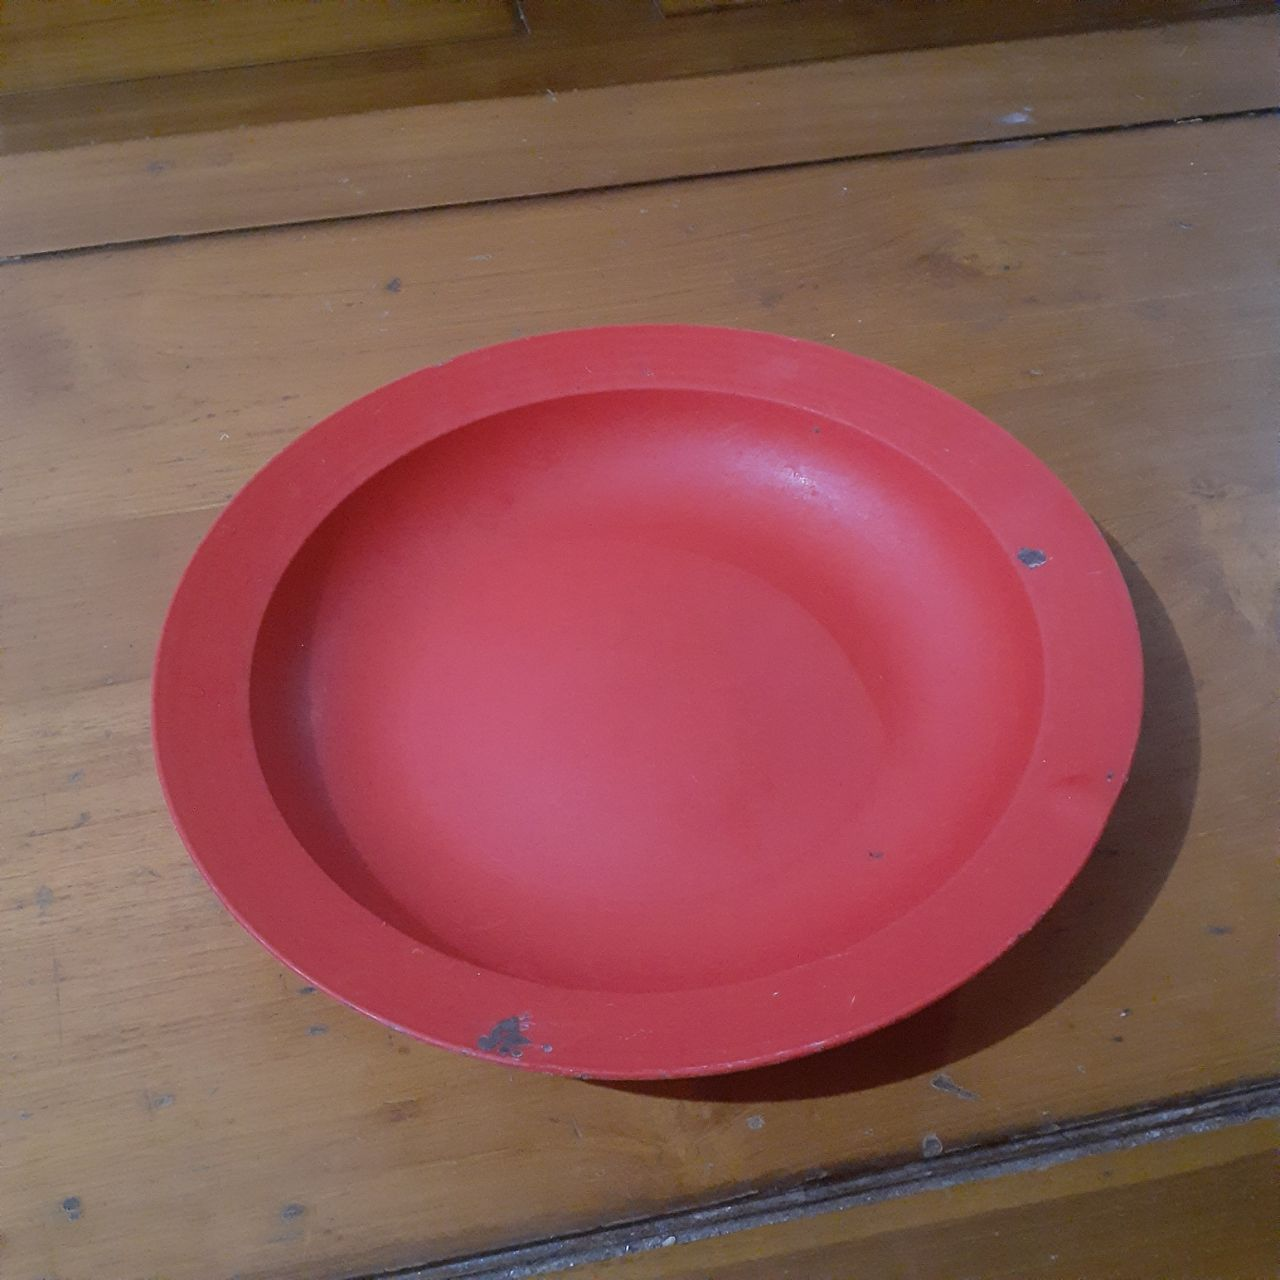piring: (150, 311, 1150, 1084)
